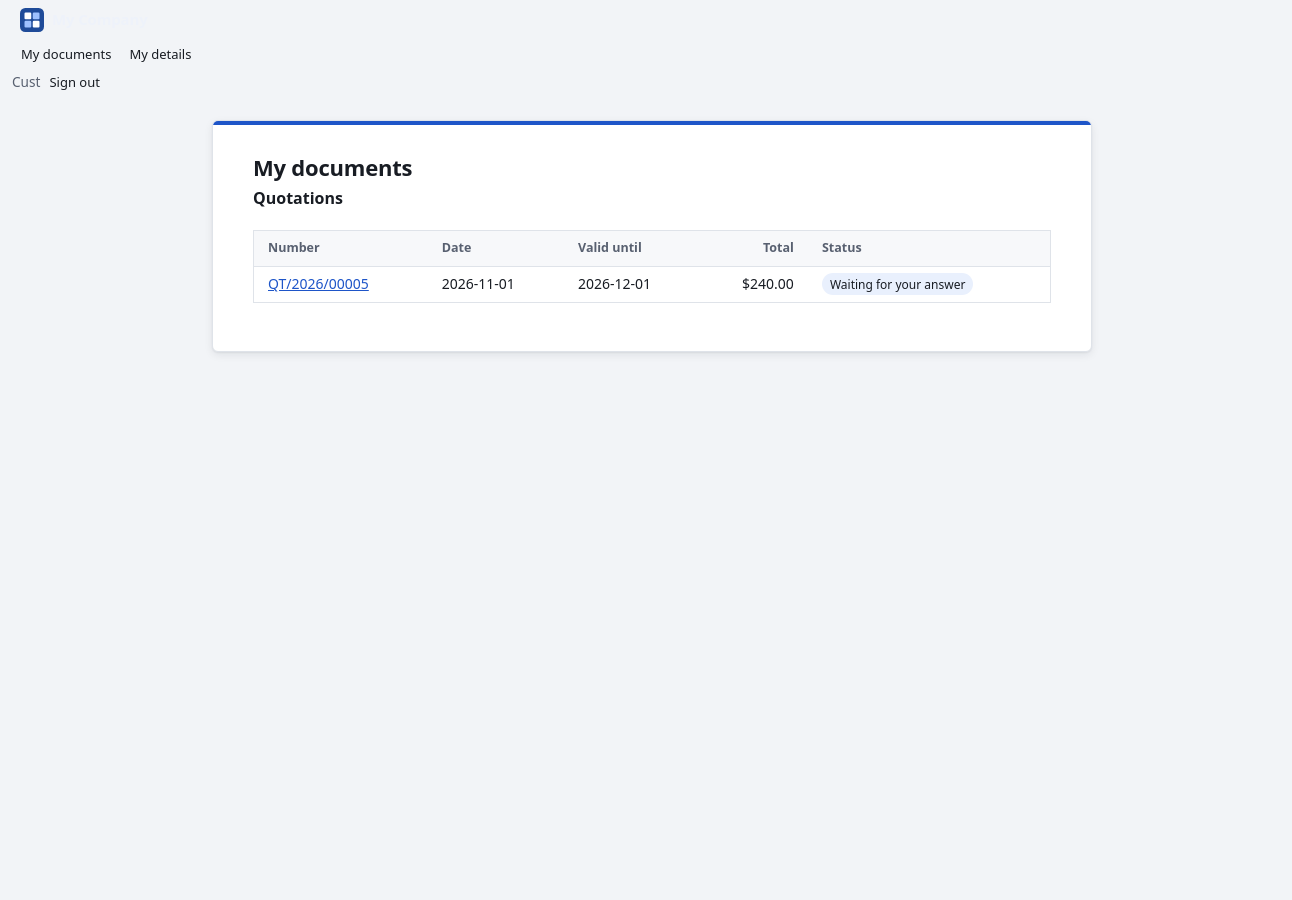
Scenario: customer portal › lists documents and updates the profile for portal users
Expected: the link "QT/2026/00005" is shown, [268, 274, 369, 293]
Click the link "My details".
click(160, 54)  # box [129, 45, 192, 63]
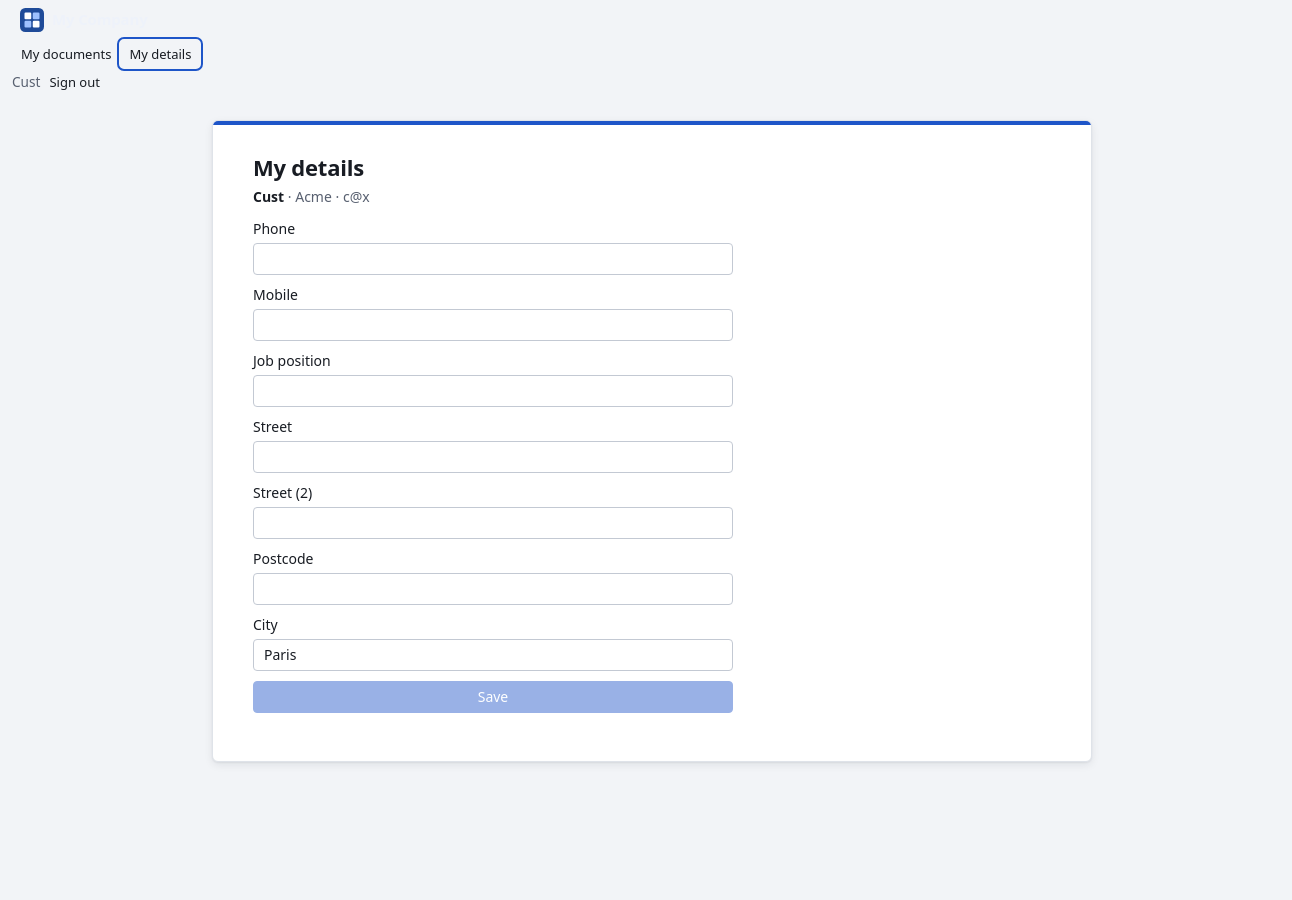
Type "+33" into the field labelled "Phone".
click(493, 259); type("+33")  # box [253, 243, 733, 275]
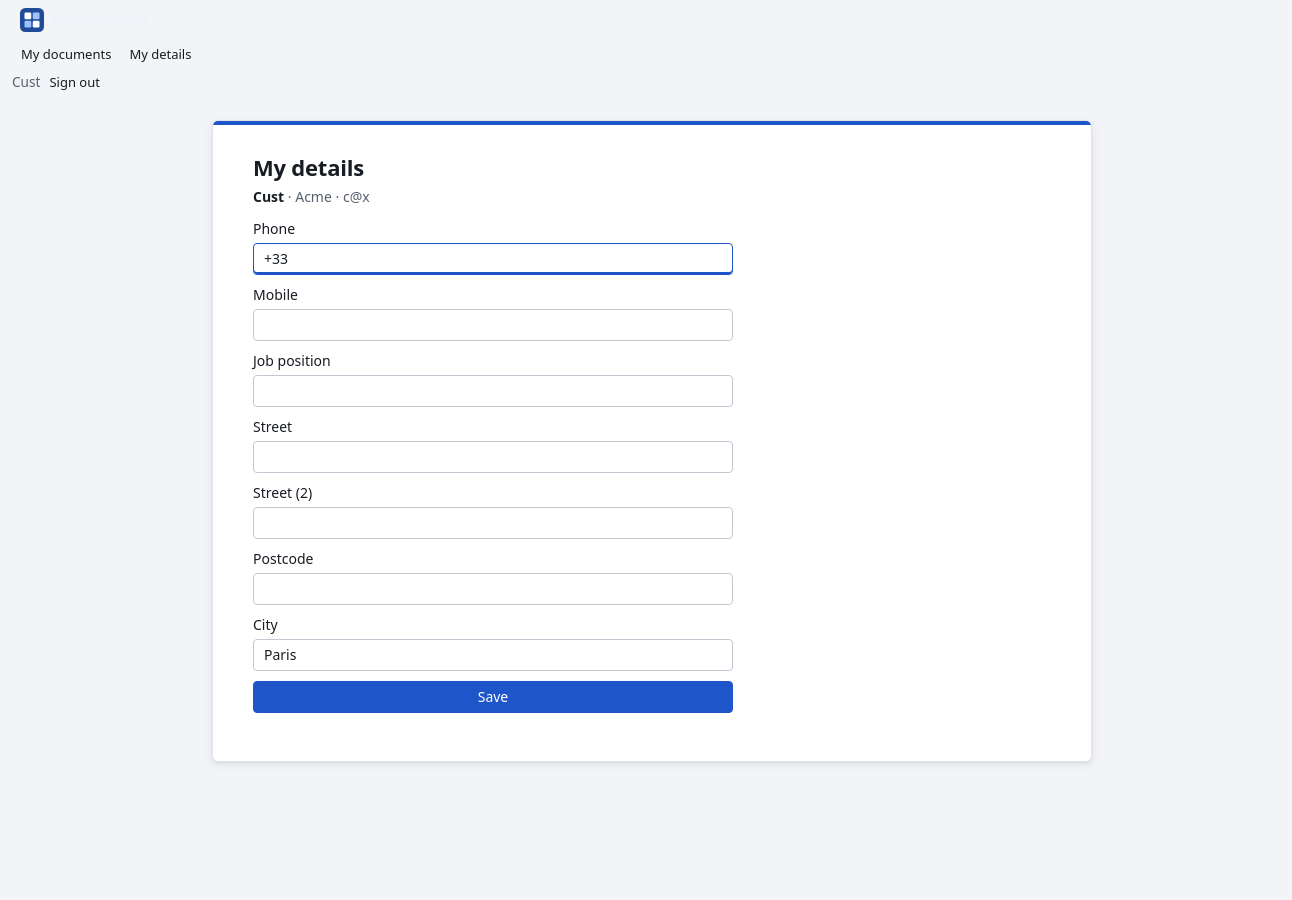
Click the button "Save".
click(493, 697)  # box [253, 681, 733, 713]
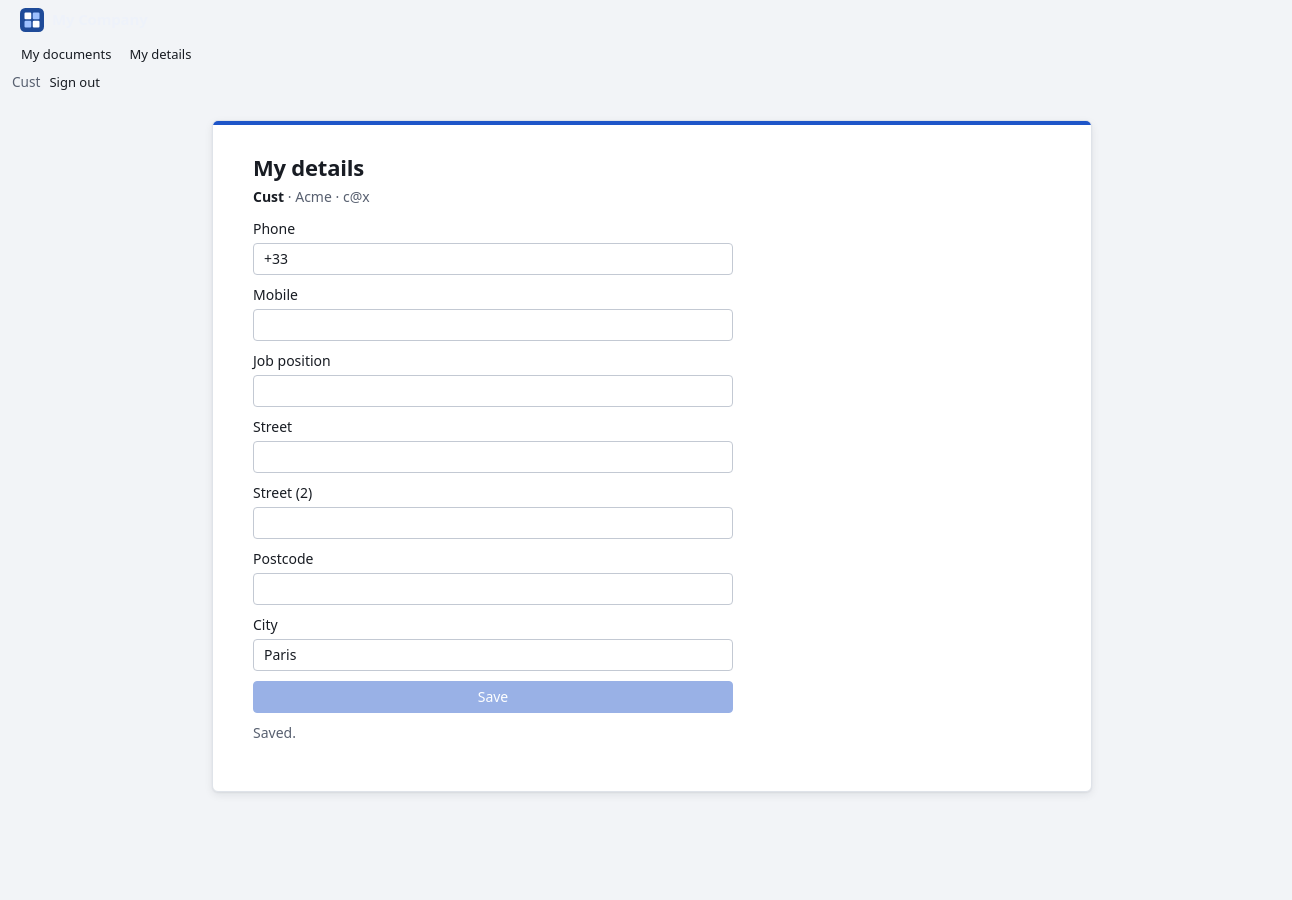
Result: the text "Saved." is shown at [253, 723, 296, 742]
